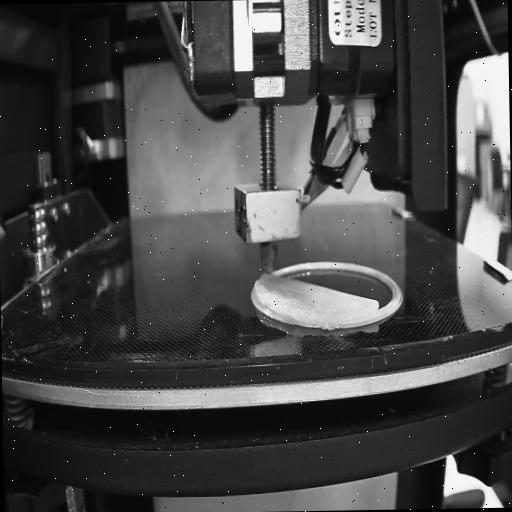over_extrusion: (250, 268, 272, 309)
